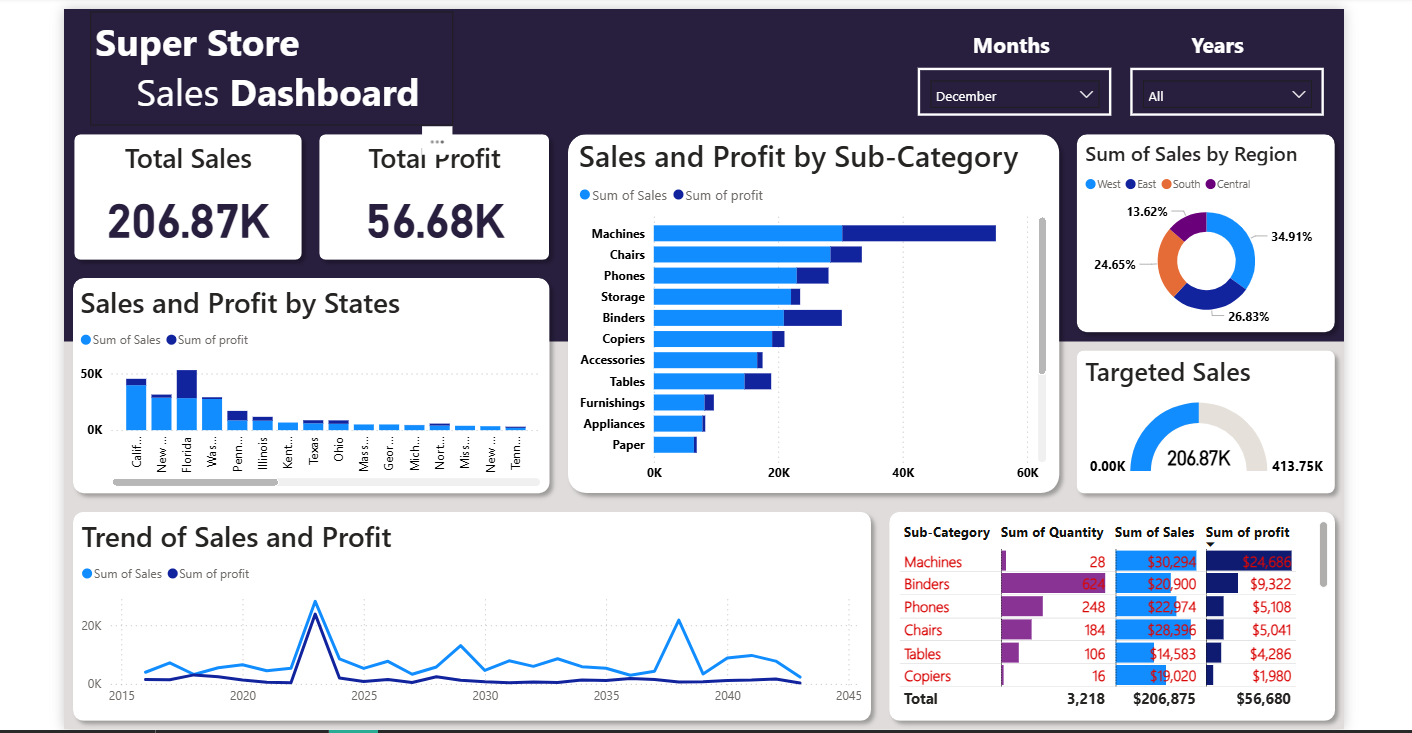

Layout of this report page (visuals, bound fields, positions):
{"tool":"powerbi","page":{"name":"Total Sales Report","canvas":[1280,720],"ordinal":0},"visuals":[{"type":"shape","box":[0,0,1280,332.5],"z":0},{"type":"shape","box":[1003.7,332.5,276.1,160.7],"z":1000},{"type":"shape","box":[1.2,116.4,245.4,143.6],"z":2000},{"type":"shape","box":[1003.7,116.6,276.1,216],"z":3000},{"type":"shape","box":[246.6,116.4,247.9,143.6],"z":4000},{"type":"shape","box":[816,493.3,463.8,227],"z":5000},{"type":"shape","box":[0,493.3,816,227],"z":6000},{"type":"shape","box":[0,260.1,494.5,233.1],"z":7000},{"type":"shape","box":[494.5,116.6,509.2,376.7],"z":8000},{"type":"barChart","title":"Sales and Profit by Sub-Category","fields":{"Category":["table.Sub-Category"],"Y":["Sum(table.Sales)","Sum(table.profit)"]},"box":[510.4,126.4,477.3,355.8],"z":9000},{"type":"columnChart","title":"Sales and Profit by States","fields":{"Category":["table.State"],"Y":["Sum(table.Sales)","Sum(table.profit)"]},"box":[11,273.6,469.9,208.6],"z":10000},{"type":"card","title":"Total Sales","fields":{"Values":["Sum(table.Sales)"]},"box":[12.3,130.1,223.3,117.8],"z":11000},{"type":"card","title":"Total Profit","fields":{"Values":["Sum(table.profit)"]},"box":[258.9,130.1,223.3,117.8],"z":12000},{"type":"donutChart","fields":{"Category":["table.Region"],"Y":["Sum(table.Sales)"]},"box":[1016,130.1,252.8,190.2],"z":13000},{"type":"lineChart","title":"Trend of Sales and Profit","fields":{"Category":["table.year"],"Y":["Sum(table.Sales)","Sum(table.profit)"]},"box":[12.3,508,790.2,197.5],"z":14000},{"type":"tableEx","fields":{"Values":["table.Sub-Category","Sum(table.Quantity)","Sum(table.Sales)","Sum(table.profit)"]},"box":[828.2,508,440.5,197.5],"z":15000},{"type":"gauge","title":"Targeted Sales","fields":{"Y":["Sum(table.Sales)"]},"box":[1016,344.8,252.8,137.4],"z":16000},{"type":"textbox","box":[26.2,2.5,362.5,113.8],"z":17000},{"type":"slicer","fields":{"Values":["table.year"]},"box":[1066.3,58.9,193.9,47.9],"z":18000},{"type":"slicer","fields":{"Values":["table.months"]},"box":[854,58.9,193.9,47.9],"z":19000},{"type":"textbox","box":[1122.7,16,82.2,42.9],"z":20000},{"type":"textbox","box":[903.8,16.2,100,42.5],"z":21000}]}

Visuals, with their boxes in screenshot pixels (x1, y1, x2, y2):
shape: [59, 4, 1342, 337]
shape: [1065, 337, 1342, 498]
shape: [60, 120, 306, 264]
shape: [1065, 121, 1342, 337]
shape: [306, 120, 554, 264]
shape: [877, 498, 1342, 726]
shape: [59, 498, 877, 726]
shape: [59, 264, 554, 498]
shape: [554, 121, 1065, 498]
"Sales and Profit by Sub-Category" barChart: [570, 130, 1049, 487]
"Sales and Profit by States" columnChart: [70, 278, 541, 487]
"Total Sales" card: [71, 134, 295, 252]
"Total Profit" card: [318, 134, 542, 252]
donutChart - table.Region x Sum(table.Sales): [1077, 134, 1330, 325]
"Trend of Sales and Profit" lineChart: [71, 513, 863, 711]
tableEx - table.Sub-Category x Sum(table.Quantity): [889, 513, 1330, 711]
"Targeted Sales" gauge: [1077, 349, 1330, 487]
textbox: [85, 6, 448, 120]
slicer - table.year: [1128, 63, 1322, 111]
slicer - table.months: [915, 63, 1109, 111]
textbox: [1184, 20, 1266, 63]
textbox: [965, 20, 1065, 63]
